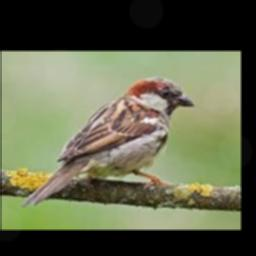Sparrow: (23, 77, 196, 206)
